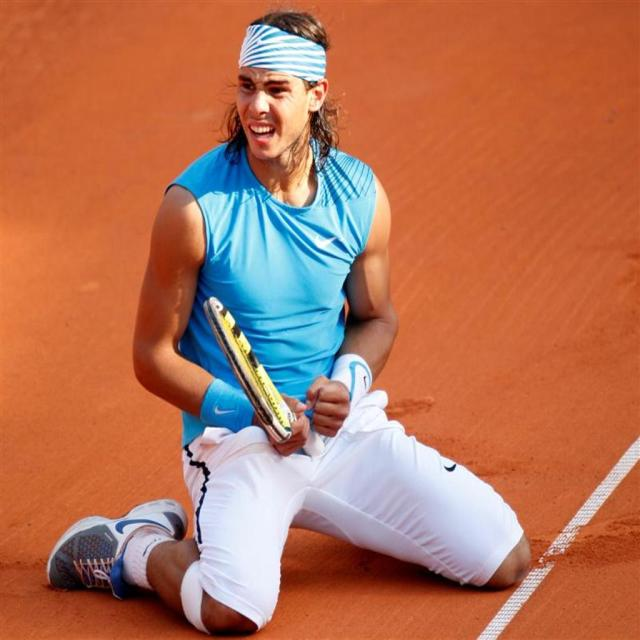Face: (231, 26, 321, 169)
